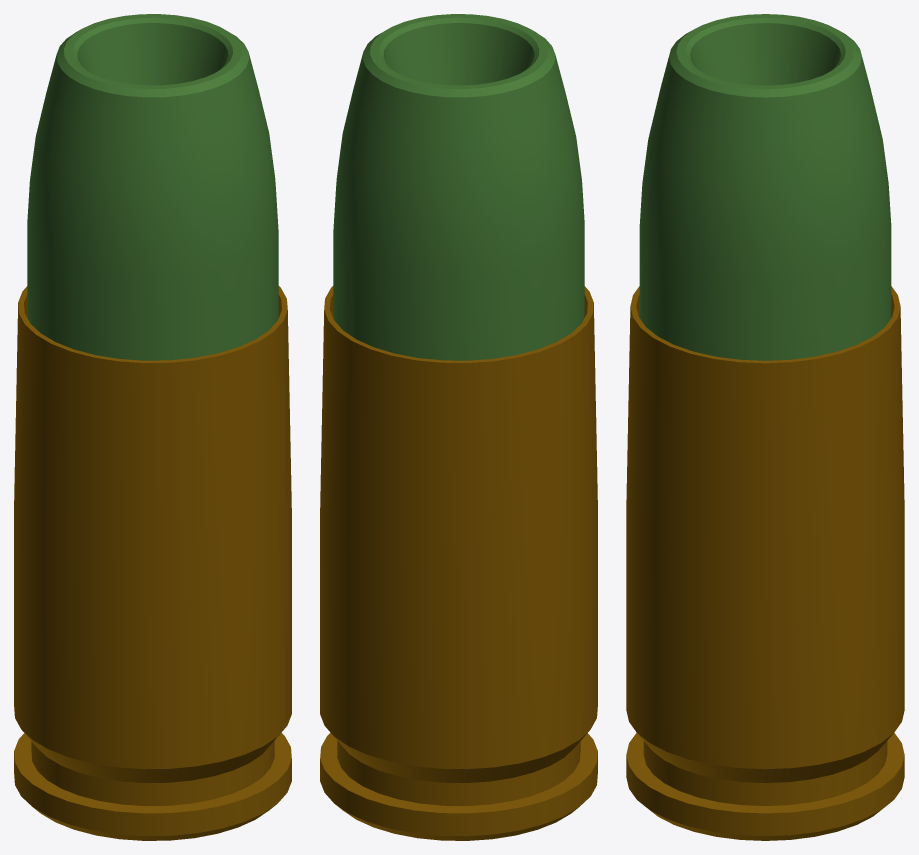
File: Bullet 9x19.FBX
The picture shows the model from 3 angles, left to right: view 1: azimuth 30°, elevation 25°; view 2: azimuth 150°, elevation 25°; view 3: azimuth 270°, elevation 25°; orthographic projection.
Visible parts, largest first — view 1: Shell026, Bullet027; view 2: Shell026, Bullet027; view 3: Shell026, Bullet027.
Part boxes in pixels (x1,y1,x2,y2): Shell026: [14, 286, 291, 840]; Bullet027: [27, 14, 278, 360]; Shell026: [320, 286, 597, 840]; Bullet027: [333, 14, 584, 360]; Shell026: [626, 286, 904, 840]; Bullet027: [639, 14, 891, 360].
Bounding box in the file's own units: 0.9962 × 2.9 × 0.9962.
